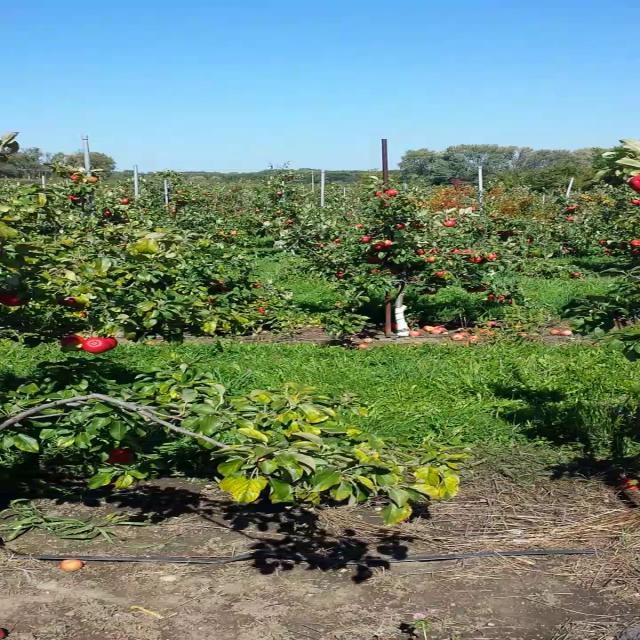apple: (104, 448, 135, 463), (83, 337, 112, 353), (60, 335, 84, 351), (0, 293, 23, 307), (58, 295, 76, 306), (630, 174, 639, 192), (106, 336, 118, 349)
